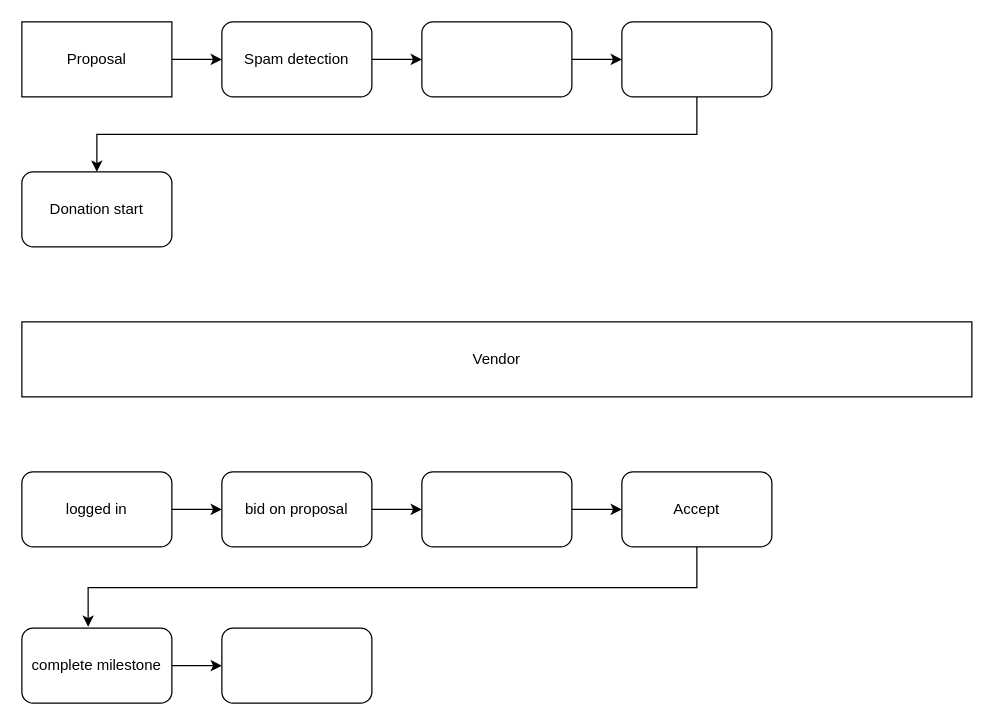
The diagram is 994 pixels wide and 725 high, and some of its shapes have lost their labels. The box of each missing label's shape, as (x1, y1, x2, y2) in pixels:
Admin Review: (421, 21, 572, 97)
bid selection: (421, 471, 572, 547)
Public listing: (621, 21, 772, 97)
release budget: (221, 627, 372, 703)
